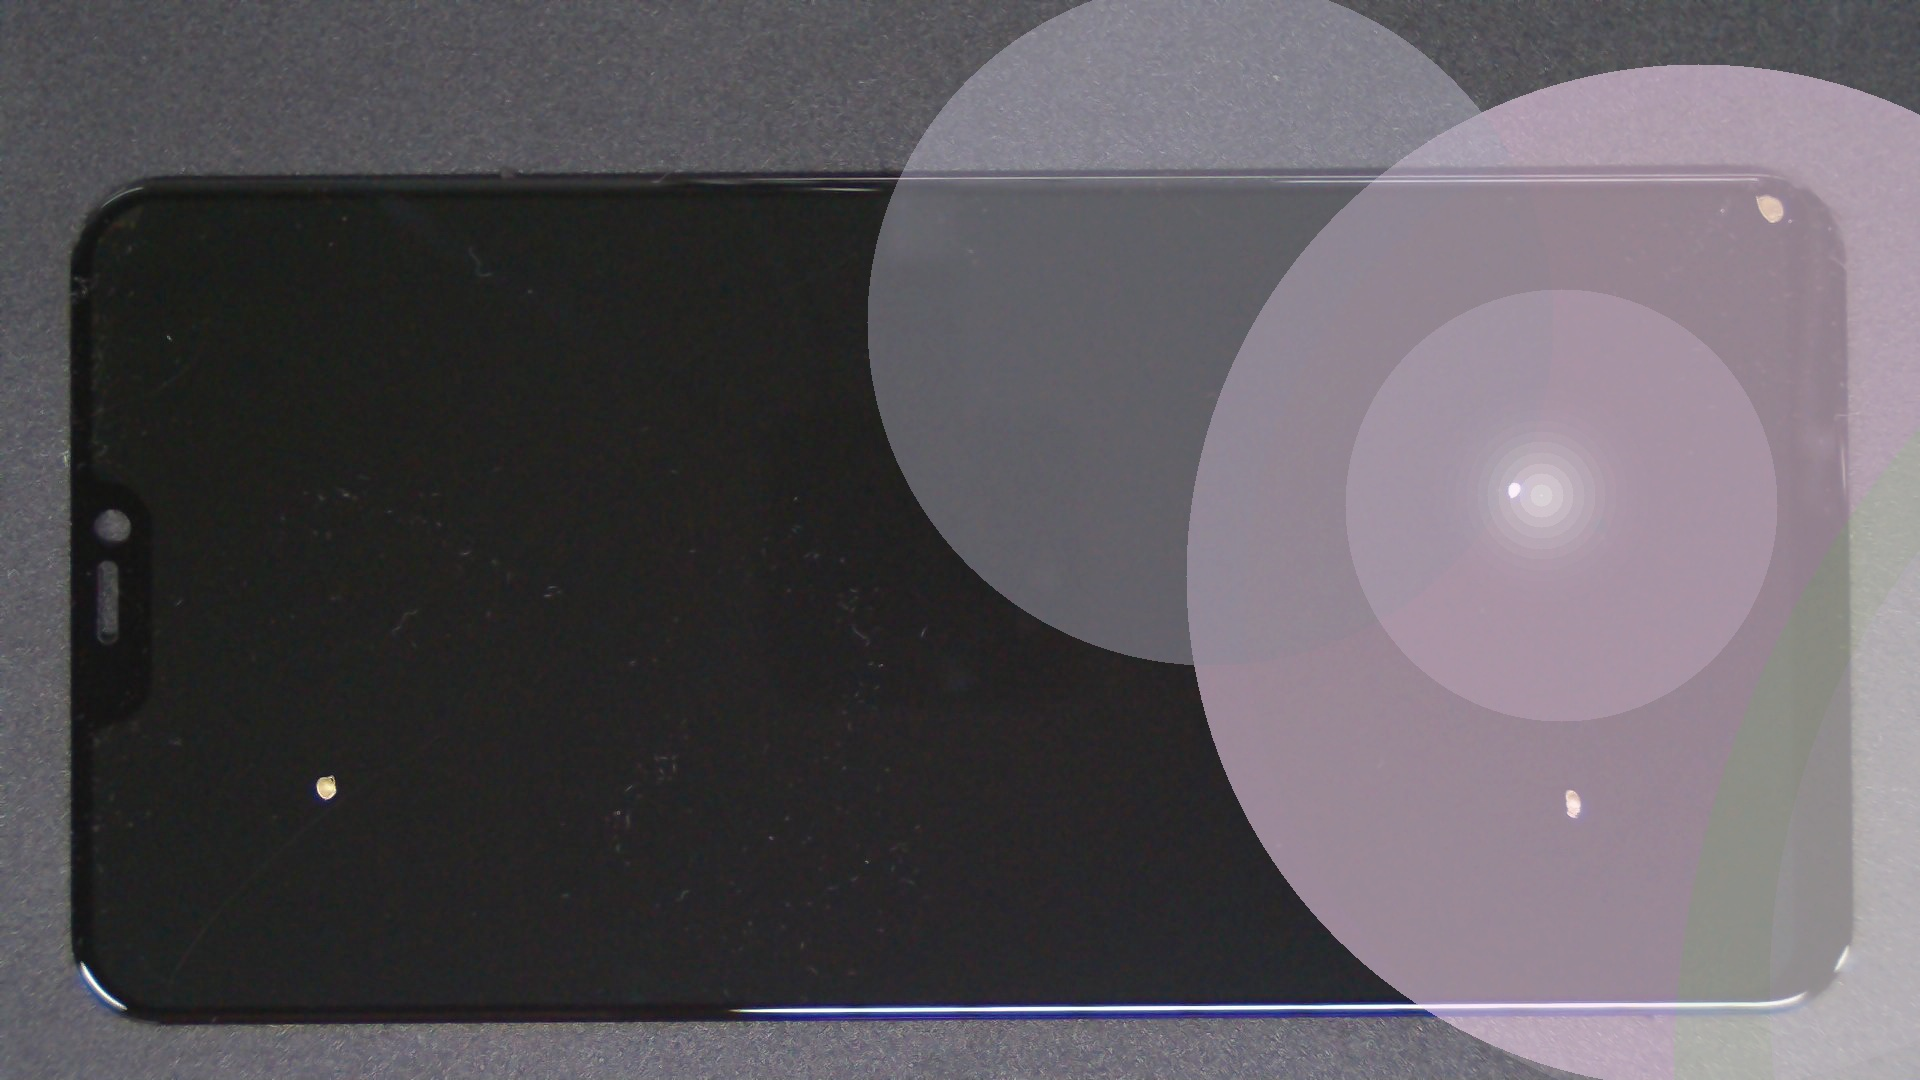oil: (783, 393, 1920, 1080), (756, 240, 1920, 723), (167, 385, 498, 1080), (881, 96, 1920, 290)
